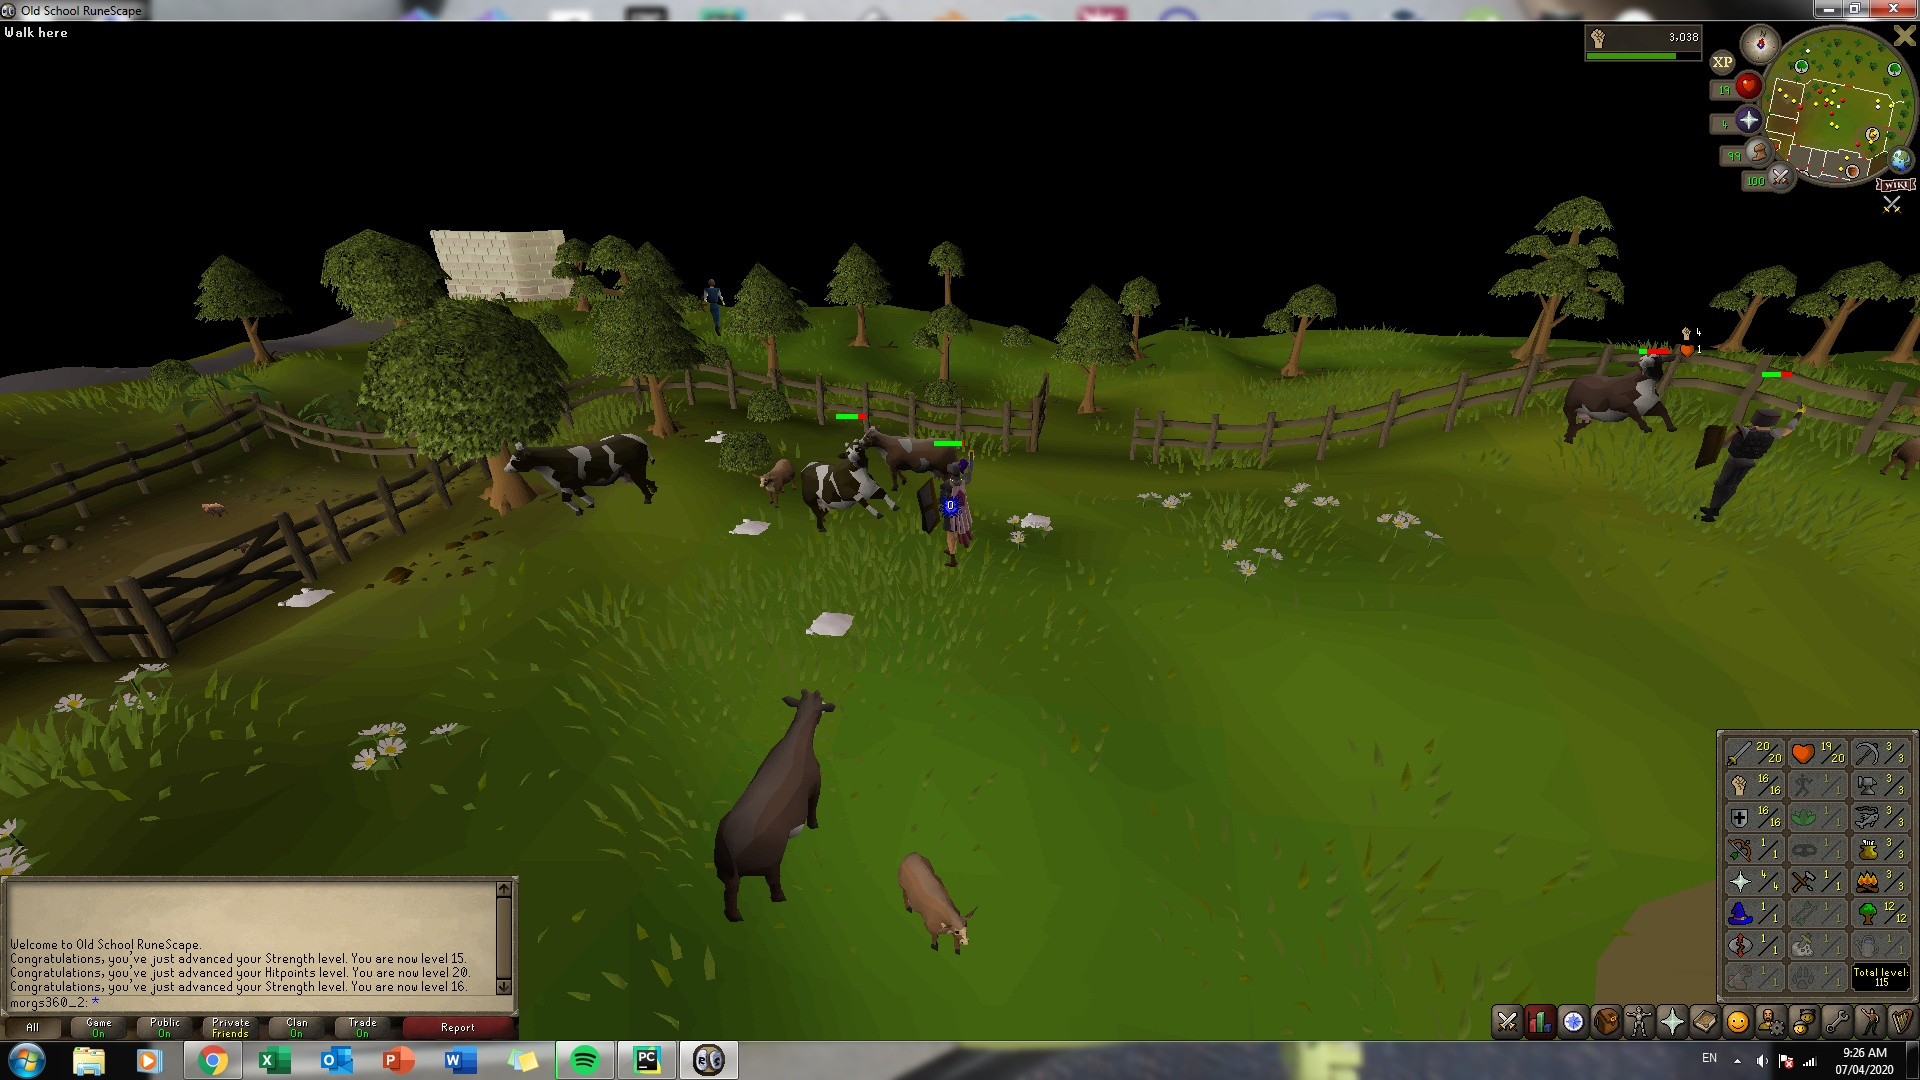cow: (709, 687, 837, 920), (500, 433, 664, 519), (1552, 346, 1686, 447), (883, 851, 979, 956), (796, 439, 900, 536), (862, 422, 934, 494), (752, 447, 803, 515)
player: (930, 451, 981, 570)
